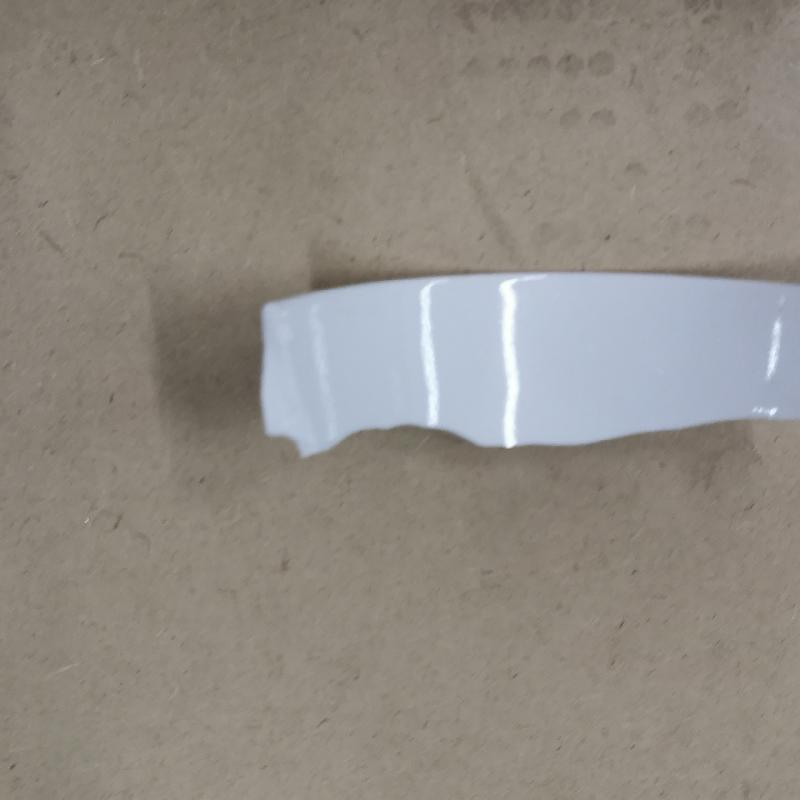ceram: (259, 263, 799, 469)
